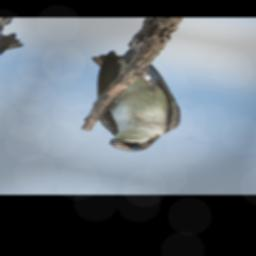Swallow: (39, 42, 219, 157)
